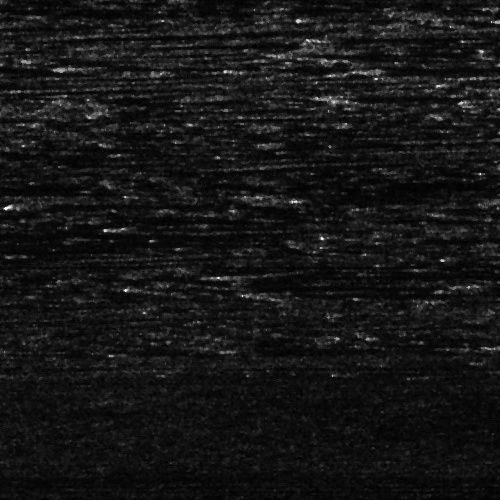object: (183, 269, 256, 278), (356, 64, 419, 73), (313, 92, 376, 101), (226, 290, 299, 297), (20, 199, 73, 206), (31, 64, 94, 69), (421, 296, 462, 301)
shadow: (219, 269, 497, 278), (263, 290, 448, 297), (47, 199, 225, 206), (388, 64, 500, 73), (0, 230, 185, 235), (345, 92, 437, 101), (63, 64, 149, 69), (441, 296, 500, 301), (0, 302, 61, 305)
